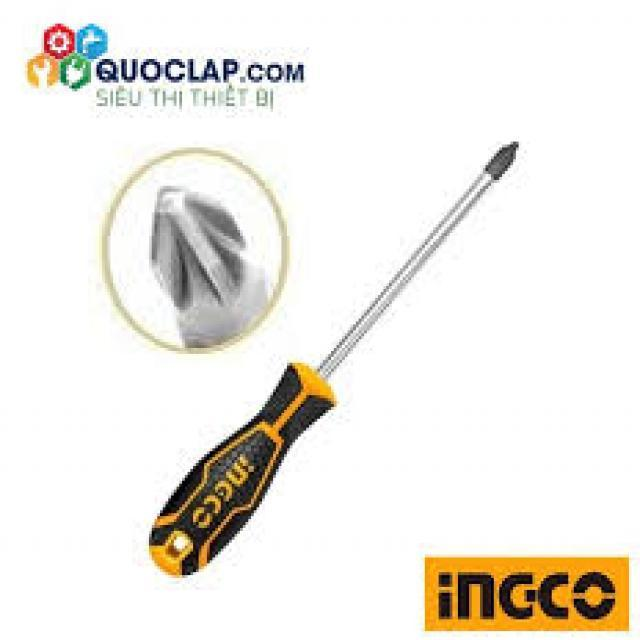screwdriver: (150, 136, 530, 582)
